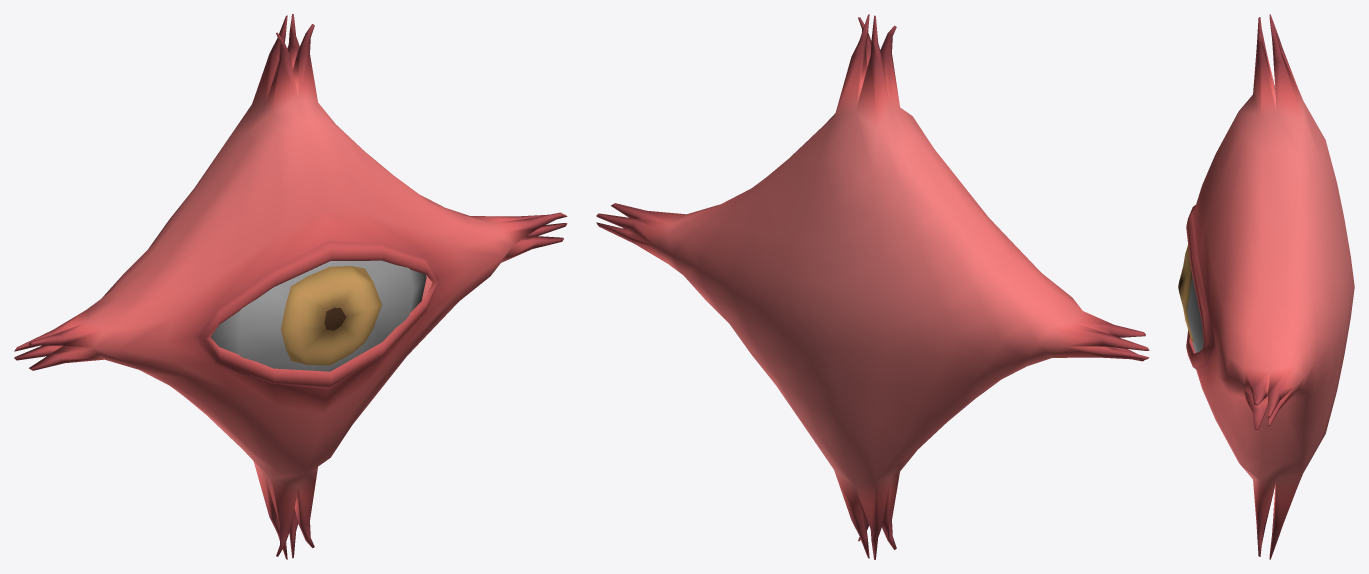
File: MS_Boss03_EyeBall01.fbx
The picture shows the model from 3 angles, left to right: view 1: azimuth 30°, elevation 25°; view 2: azimuth 150°, elevation 25°; view 3: azimuth 270°, elevation 25°; orthographic projection.
Parts seen in each view (by area): view 1: EyeBall; view 2: EyeBall; view 3: EyeBall.
Part boxes in pixels (x1=…): EyeBall: x1=14, y1=14, x2=567, y2=559; EyeBall: x1=596, y1=14, x2=1149, y2=559; EyeBall: x1=1178, y1=14, x2=1354, y2=559.
Bounding box in the file's own units: 577 × 542 × 160.
